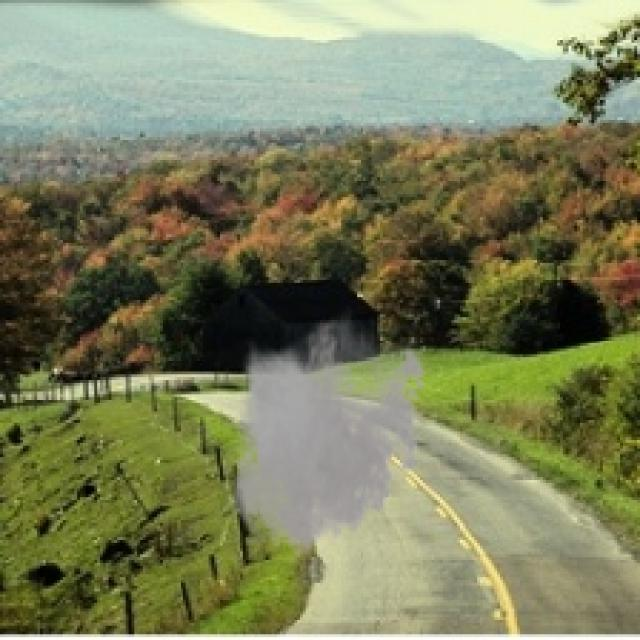smoke: (226, 306, 431, 566)
